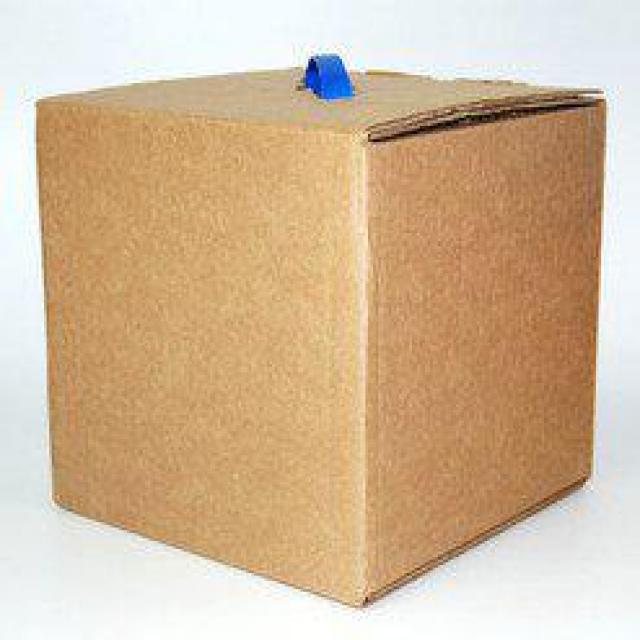box: (28, 44, 616, 608)
